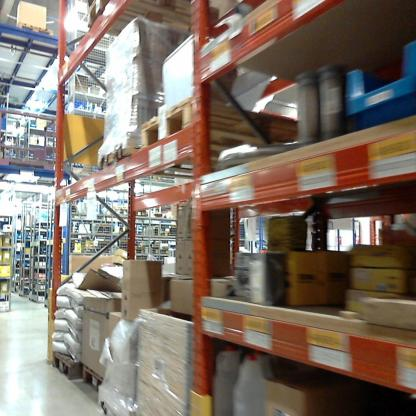pallet: (139, 97, 328, 170), (98, 135, 231, 183), (95, 389, 147, 414), (80, 363, 113, 399), (15, 19, 54, 47), (50, 350, 79, 385)
